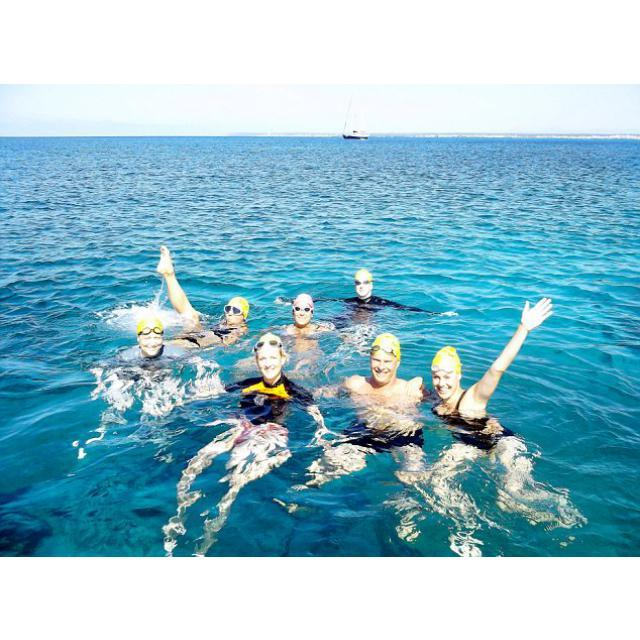human: (436, 291, 559, 540), (187, 328, 316, 537), (330, 328, 433, 533), (91, 308, 178, 440), (280, 264, 458, 327), (159, 242, 249, 350), (281, 287, 334, 356)
